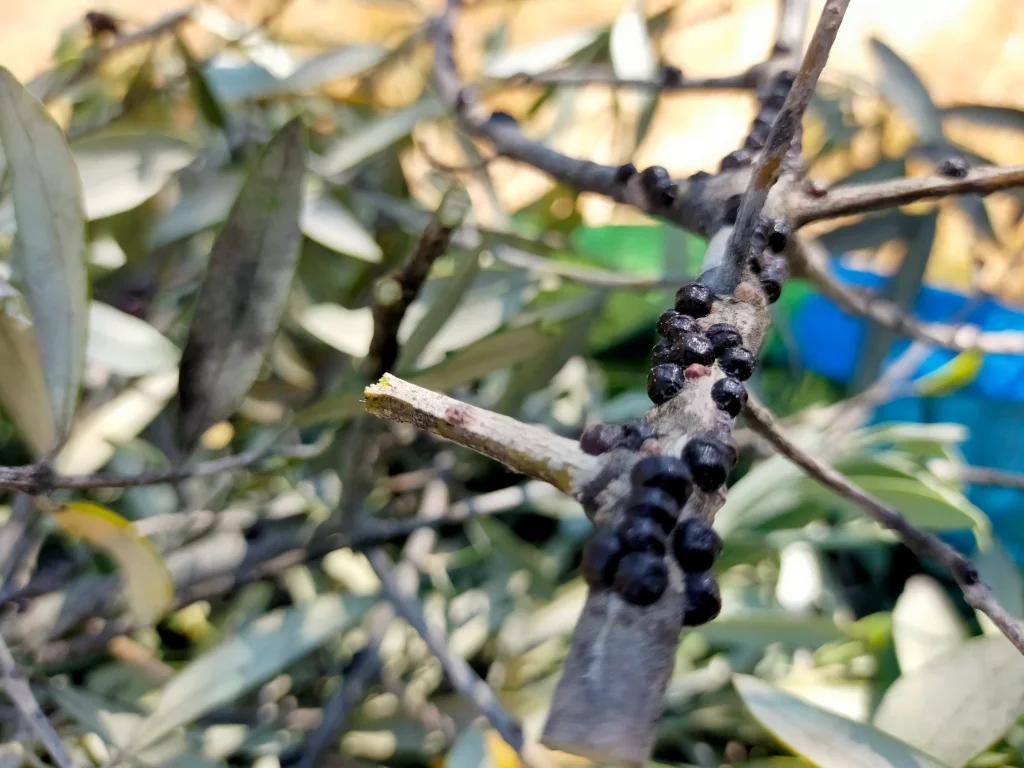BlackScale: (557, 464, 742, 632), (632, 280, 787, 458), (615, 144, 718, 228), (744, 184, 800, 278)
